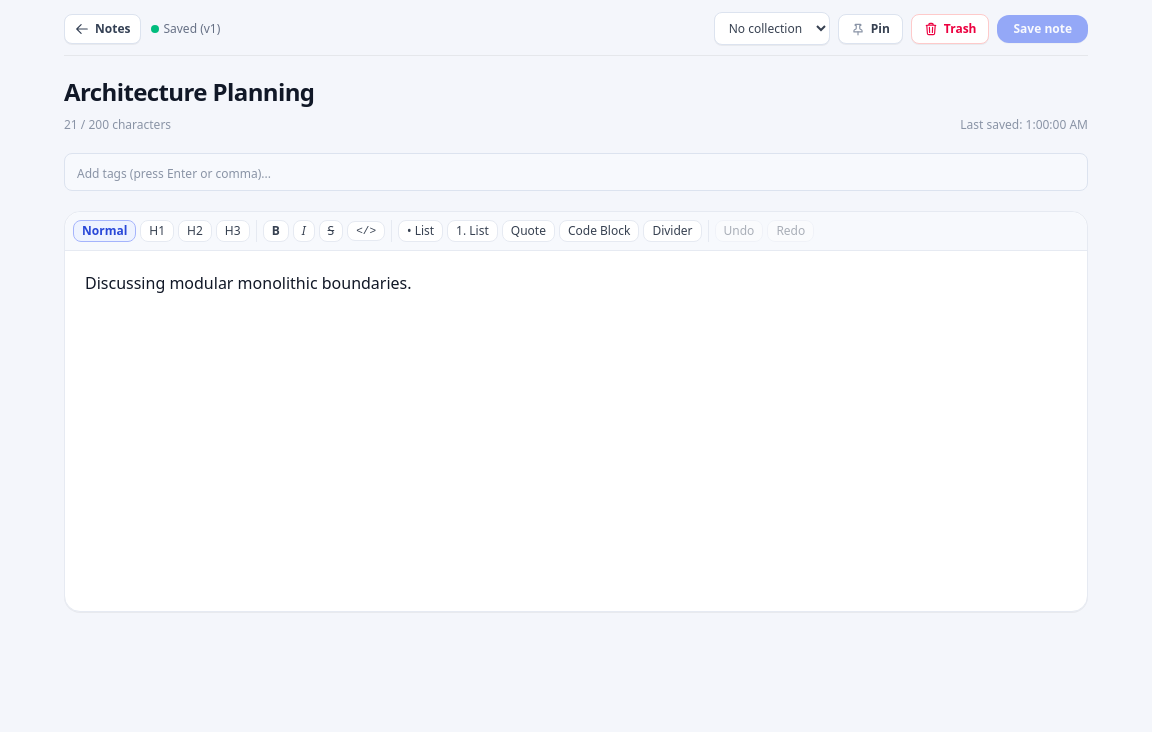
Scenario: Stage 5B: Frontend Notes & Rich-Text Editor › 6. Note Editor Loading & Dirty State › marks as Unsaved changes on title edit and re-enables Save button
Type " - Revised" into the field named "Note Title".
click(576, 94); type(" - Revised")  # box [64,76,1088,113]
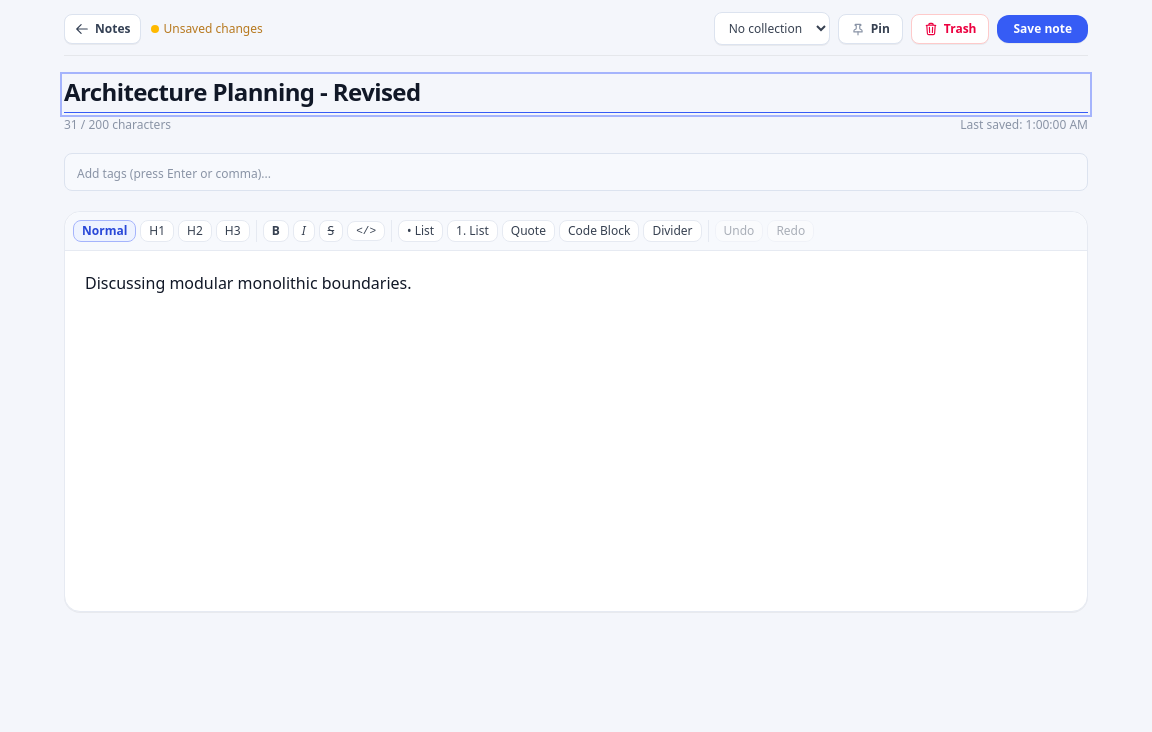
Now the text "Unsaved changes" is shown, box [152,20,263,36]
Now the button "Save note" is enabled, box [998,14,1088,42]
